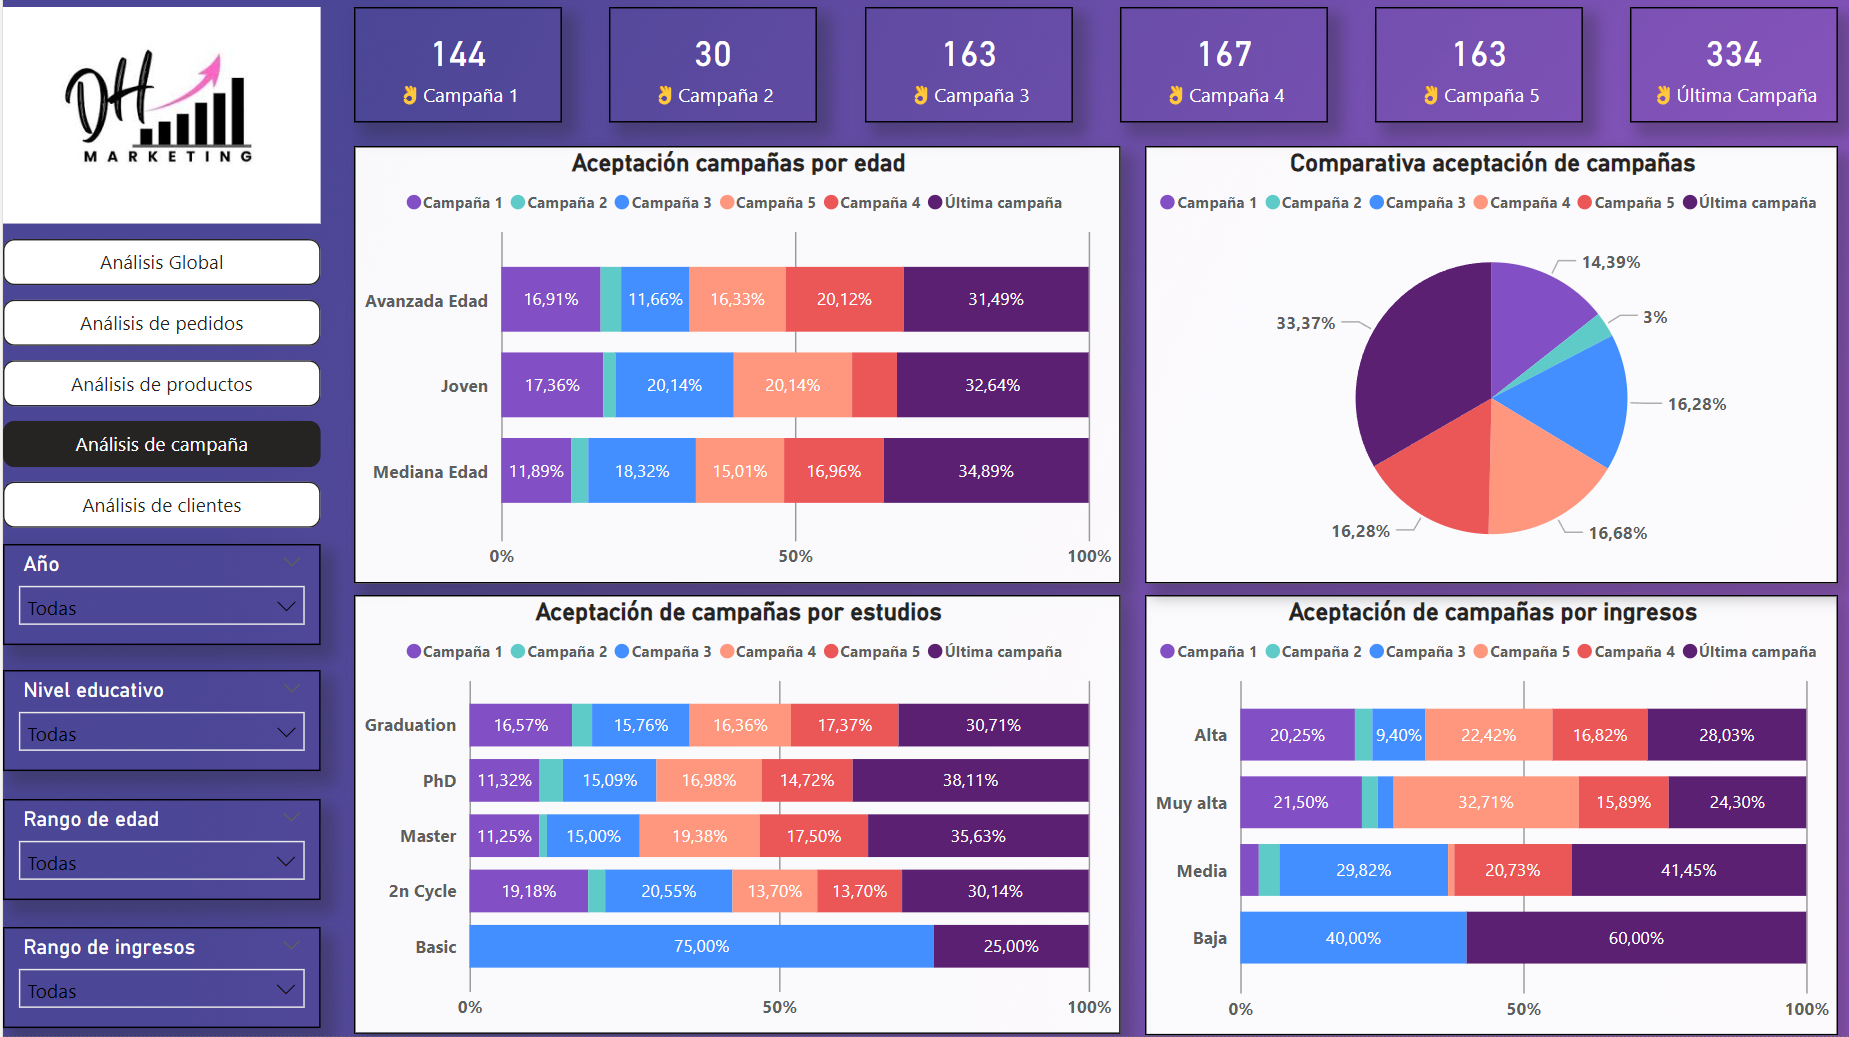

The page's visual inventory and layout, read from the dashboard file:
{"tool":"powerbi","page":{"name":"Análisis de campaña","canvas":[1280,720],"ordinal":3},"visuals":[{"type":"hundredPercentStackedBarChart","title":"Aceptación campañas por edad","fields":{"Category":["marketing_campaign.Rango_Edad"],"Y":["DAX Medidas.Acepta campaña 1","DAX Medidas.Acepta campaña 2","DAX Medidas.Acepta campaña 3","DAX Medidas.Acepta campaña 5","DAX Medidas.Acepta campaña 4","DAX Medidas.Acepta ultima campaña"]},"box":[243.3,104,530.9,303],"z":0},{"type":"hundredPercentStackedBarChart","title":"Aceptación de campañas por ingresos","fields":{"Category":["marketing_campaign.Rango_Ingresos"],"Y":["DAX Medidas.Acepta campaña 1","DAX Medidas.Acepta campaña 2","DAX Medidas.Acepta campaña 3","DAX Medidas.Acepta campaña 5","DAX Medidas.Acepta campaña 4","DAX Medidas.Acepta ultima campaña"]},"box":[790.8,414.7,480,305.3],"z":1000},{"type":"pieChart","title":"Comparativa aceptación de campañas","fields":{"Y":["DAX Medidas.Acepta campaña 1","DAX Medidas.Acepta campaña 2","DAX Medidas.Acepta campaña 3","DAX Medidas.Acepta campaña 4","DAX Medidas.Acepta campaña 5","DAX Medidas.Acepta ultima campaña"]},"box":[790.8,104,480,303],"z":2000},{"type":"hundredPercentStackedBarChart","title":"Aceptación de campañas por estudios","fields":{"Category":["D_Nivel_Estudios.Nivel_Estudios"],"Y":["DAX Medidas.Acepta campaña 1","DAX Medidas.Acepta campaña 2","DAX Medidas.Acepta campaña 3","DAX Medidas.Acepta campaña 4","DAX Medidas.Acepta campaña 5","DAX Medidas.Acepta ultima campaña"]},"box":[243.3,414.7,530.9,304.1],"z":3000},{"type":"image","box":[0,7.7,220.1,150.4],"z":4000},{"type":"slicer","fields":{"Values":["Calendario.Año"]},"box":[0,379.4,220.1,69.7],"z":5000},{"type":"slicer","fields":{"Values":["D_Ingresos.Rango_Ingresos"]},"box":[0,644.5,219.9,70.3],"z":6000},{"type":"slicer","fields":{"Values":["D_Edad.Rango_Edad"]},"box":[0,556.5,219.8,70.4],"z":7000},{"type":"pageNavigator","box":[0,168.1,220.1,200.2],"z":8000},{"type":"slicer","fields":{"Values":["D_Nivel_Estudios.Nivel_Estudios"]},"box":[0,466.7,220.1,69.7],"z":9000},{"type":"card","fields":{"Values":["DAX Medidas.Acepta campaña 1"]},"box":[243.3,7.7,143.8,79.6],"z":10000},{"type":"card","fields":{"Values":["DAX Medidas.Acepta campaña 2"]},"box":[420.1,7.7,143.8,79.6],"z":11000},{"type":"card","fields":{"Values":["DAX Medidas.Acepta campaña 3"]},"box":[596.8,7.7,143.8,79.6],"z":12000},{"type":"card","fields":{"Values":["DAX Medidas.Acepta campaña 4"]},"box":[773.5,7.7,143.8,79.6],"z":13000},{"type":"card","fields":{"Values":["DAX Medidas.Acepta campaña 5"]},"box":[950.3,7.7,143.8,79.6],"z":14000},{"type":"card","fields":{"Values":["DAX Medidas.Acepta ultima campaña"]},"box":[1127,7.7,143.8,79.6],"z":15000}]}

Visuals, with their boxes in screenshot pixels (x1, y1, x2, y2), scaled from the page's 1280x720 canvas onto the 1849x1037 screenshot:
"Aceptación campañas por edad" hundredPercentStackedBarChart: <region>351, 150, 1118, 586</region>
"Aceptación de campañas por ingresos" hundredPercentStackedBarChart: <region>1142, 597, 1836, 1036</region>
"Comparativa aceptación de campañas" pieChart: <region>1142, 150, 1836, 586</region>
"Aceptación de campañas por estudios" hundredPercentStackedBarChart: <region>351, 597, 1118, 1035</region>
image: <region>0, 11, 318, 228</region>
slicer - Calendario.Año: <region>0, 546, 318, 647</region>
slicer - D_Ingresos.Rango_Ingresos: <region>0, 928, 318, 1030</region>
slicer - D_Edad.Rango_Edad: <region>0, 802, 318, 903</region>
pageNavigator: <region>0, 242, 318, 530</region>
slicer - D_Nivel_Estudios.Nivel_Estudios: <region>0, 672, 318, 773</region>
card - DAX Medidas.Acepta campaña 1: <region>351, 11, 559, 126</region>
card - DAX Medidas.Acepta campaña 2: <region>607, 11, 815, 126</region>
card - DAX Medidas.Acepta campaña 3: <region>862, 11, 1070, 126</region>
card - DAX Medidas.Acepta campaña 4: <region>1117, 11, 1325, 126</region>
card - DAX Medidas.Acepta campaña 5: <region>1373, 11, 1580, 126</region>
card - DAX Medidas.Acepta ultima campaña: <region>1628, 11, 1836, 126</region>
